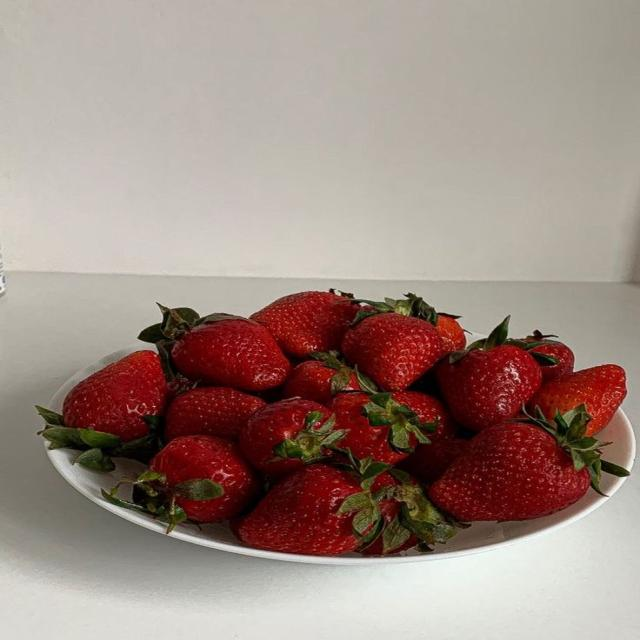strawberry: (429, 406, 627, 521), (234, 457, 454, 555), (37, 351, 168, 471), (103, 436, 260, 531), (139, 306, 290, 391), (437, 317, 541, 430), (234, 464, 360, 555), (63, 351, 167, 441), (342, 301, 445, 391), (240, 398, 343, 478), (329, 393, 438, 464), (251, 290, 359, 359), (529, 365, 626, 435), (357, 293, 466, 354), (165, 387, 265, 441), (283, 351, 361, 404), (400, 438, 469, 484), (512, 330, 574, 381), (393, 391, 455, 441), (372, 473, 403, 532), (435, 314, 466, 352)
